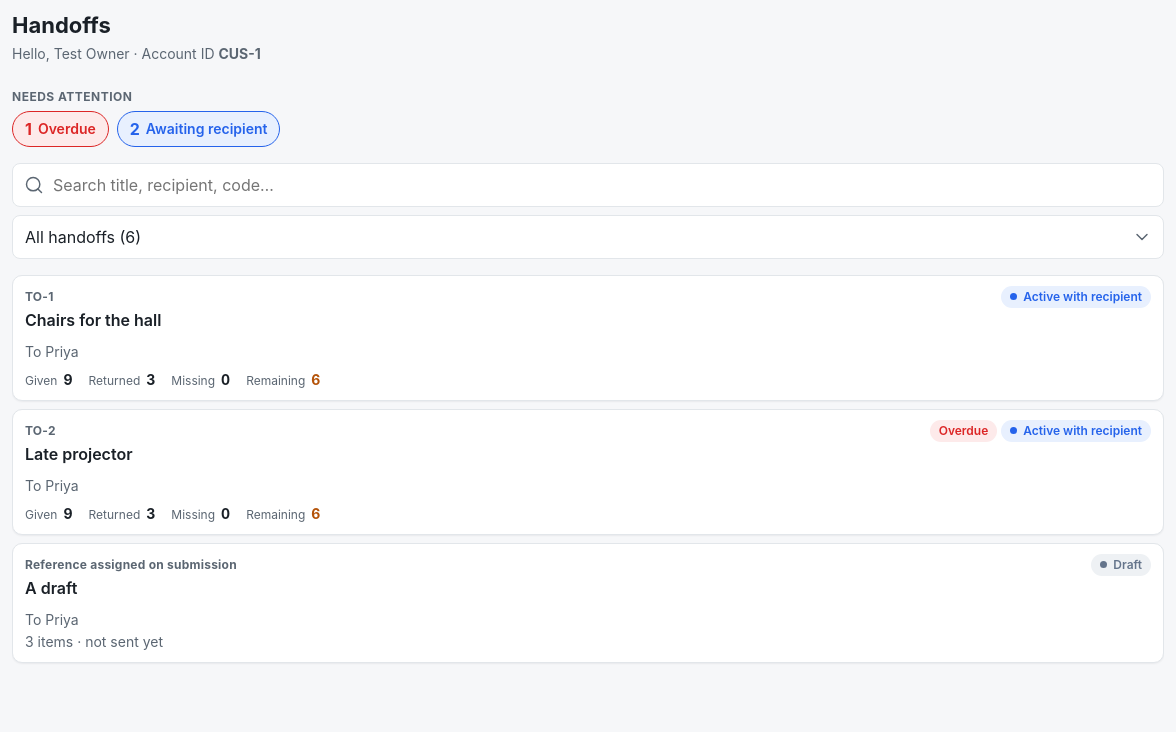
Dashboard › shows Needs attention only where something needs it, and a tap on it filters the list
expect the button "2 Awaiting recipient" is shown: met, box [117,111,280,147]
Click the button "1 Overdue" at coordinates (60, 129), box [12,111,109,147]
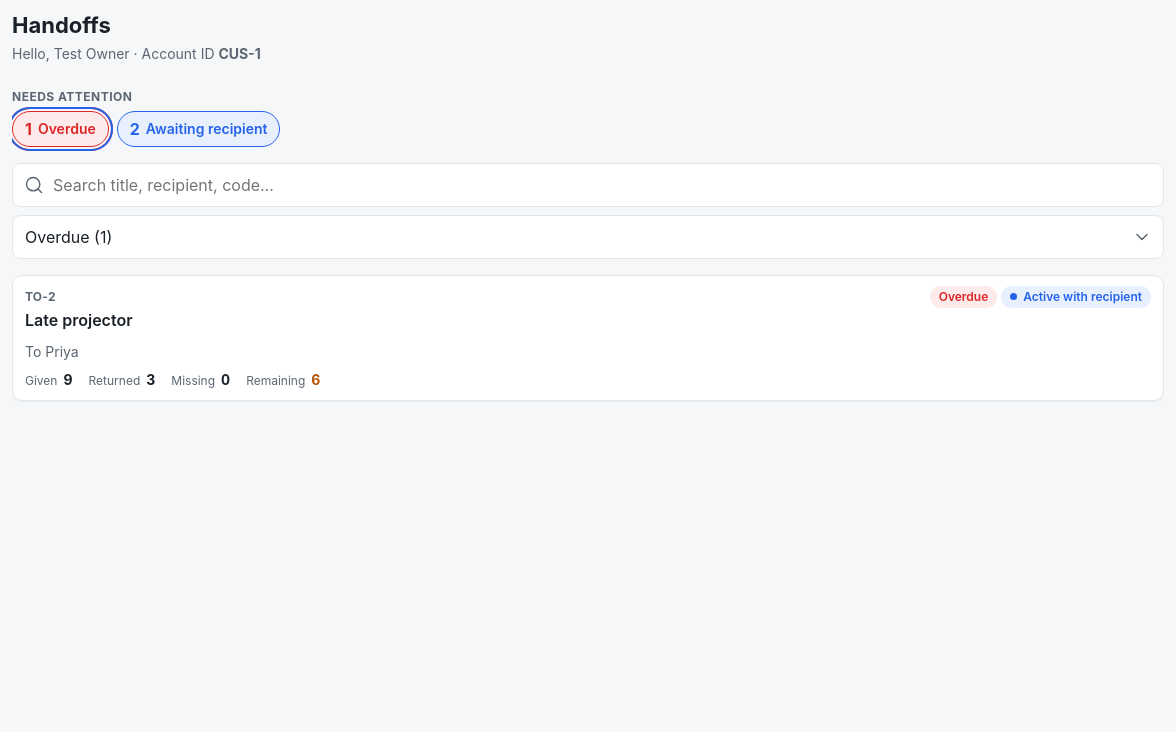
expect the dropdown named "Filter by status" shows "Overdue (1)": met, box [12,215,1164,259]
Click the button "1 Overdue" at coordinates (60, 129), box [12,111,109,147]
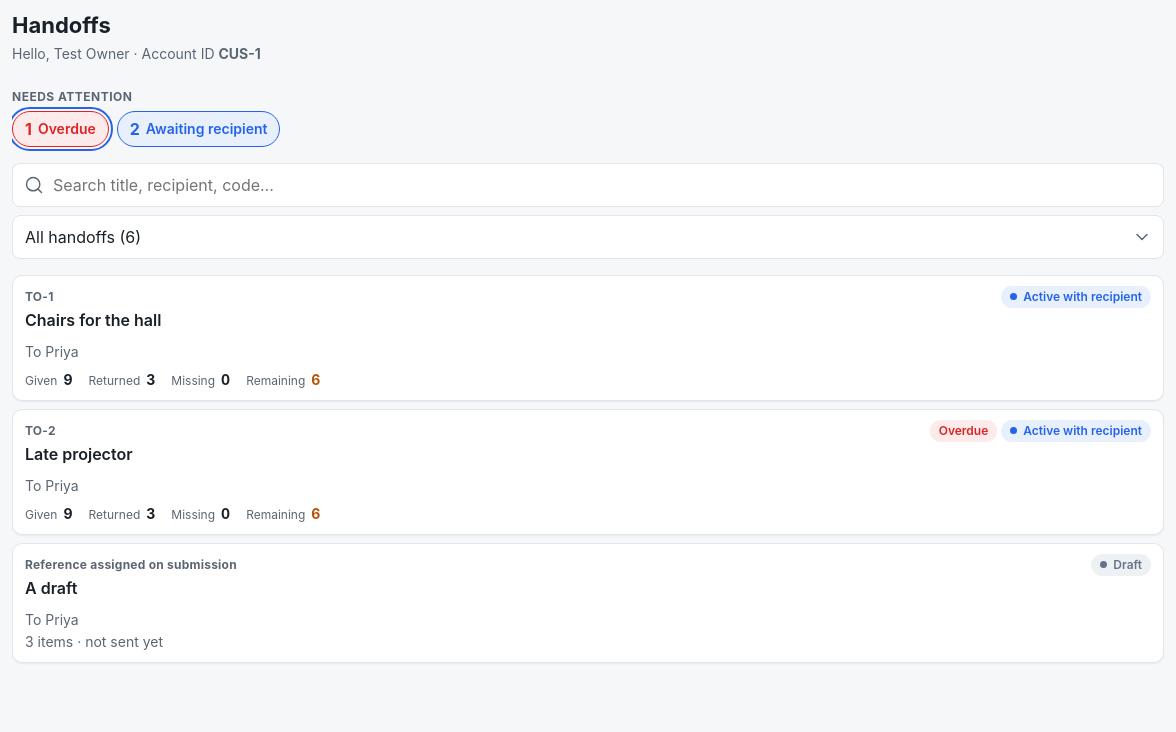
expect the dropdown named "Filter by status" shows "All handoffs (6)": met, box [12,215,1164,259]
